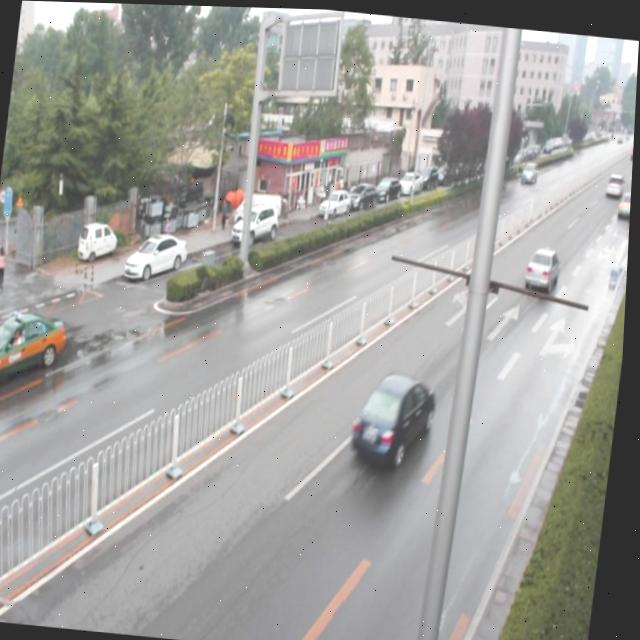car: (350, 365, 441, 471), (525, 243, 561, 287)
